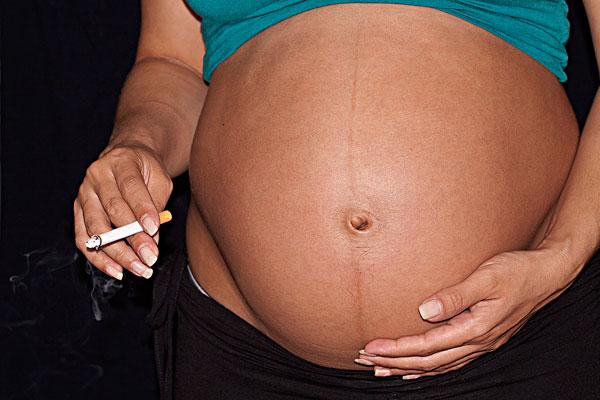smoke: (84, 210, 174, 250)
